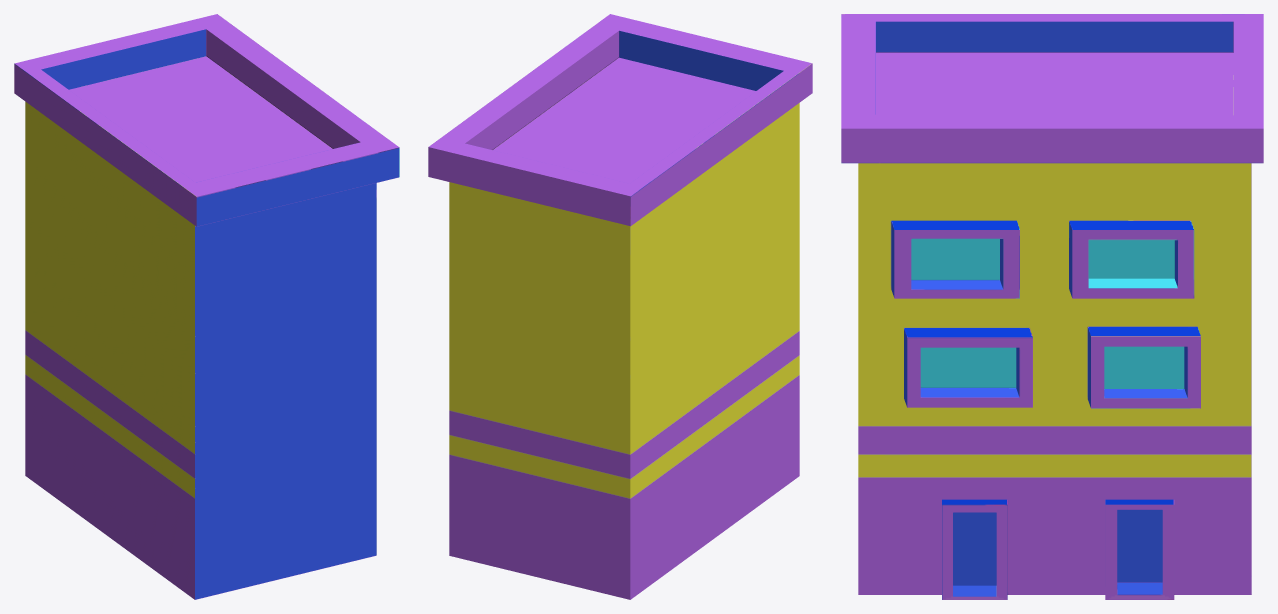
File: Building 2.fbx
3 views of the same model, side by side, from view 1: azimuth 30°, elevation 25°; view 2: azimuth 150°, elevation 25°; view 3: azimuth 270°, elevation 25° (orthographic). The views are drawn at different scales.
Parts seen in each view (by area): view 1: Cube.009; view 2: Cube.009; view 3: Cube.009.
Part boxes in pixels (<box>): Cube.009: <box>14,14,399,599</box>; Cube.009: <box>428,14,812,599</box>; Cube.009: <box>841,14,1263,599</box>.
Size of the model in its own units: 175 by 337 by 272.
Materials: 1 (1 with a texture image).
